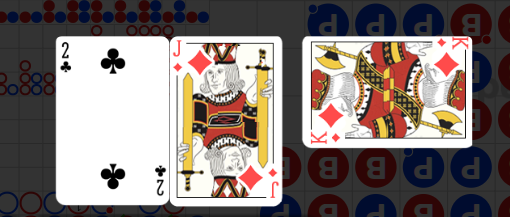2C: (59, 41, 73, 75)
KD: (309, 132, 342, 146)
